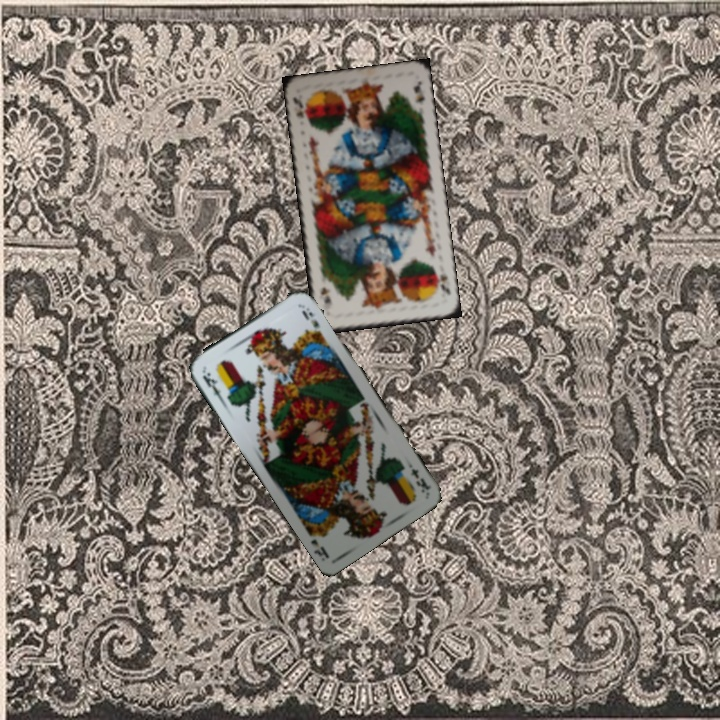EK: (402, 457, 434, 495), (198, 367, 226, 404)
SK: (431, 263, 453, 298), (289, 93, 311, 126)
